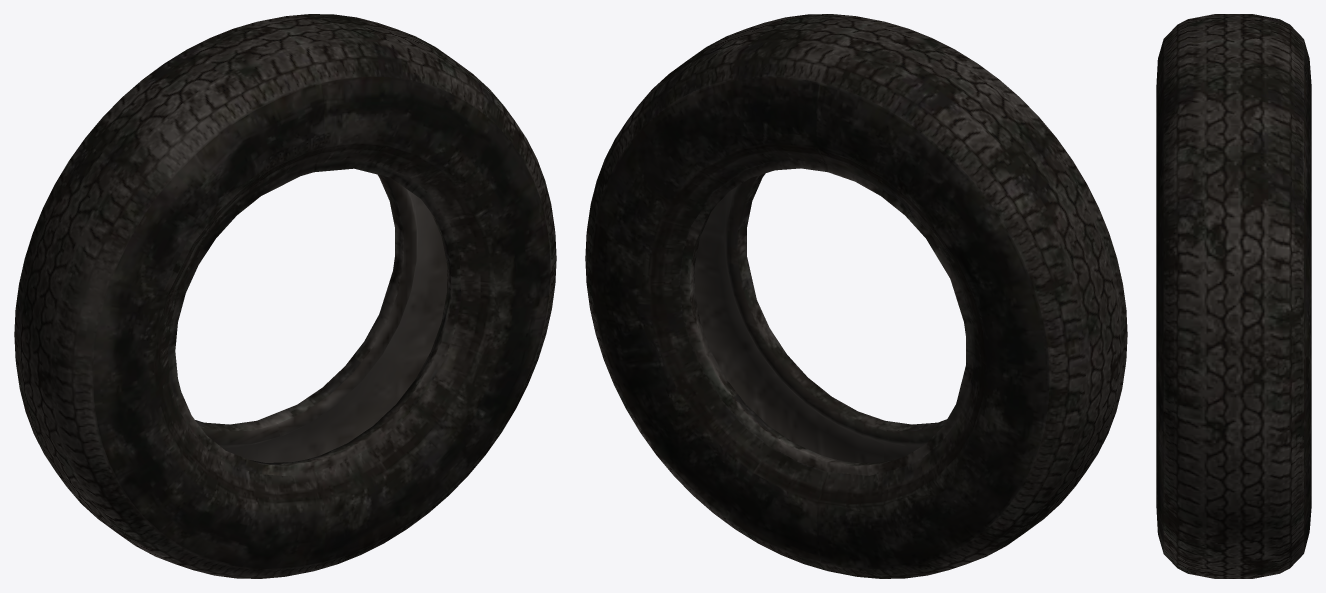
File: old_tyre.glb
The picture shows the model from 3 angles, left to right: view 1: azimuth 30°, elevation 25°; view 2: azimuth 150°, elevation 25°; view 3: azimuth 270°, elevation 25°; orthographic projection. The views are drawn at different scales.
Parts seen in each view (by area): view 1: old_tyre; view 2: old_tyre; view 3: old_tyre.
Boxes of the visible parts, left/top/right/bottom form: old_tyre: left=14, top=14, right=556, bottom=578; old_tyre: left=585, top=14, right=1127, bottom=578; old_tyre: left=1156, top=14, right=1311, bottom=578.
Bounding box in the file's own units: 0.6 × 0.6 × 0.165.
1 material, 1 textured.
